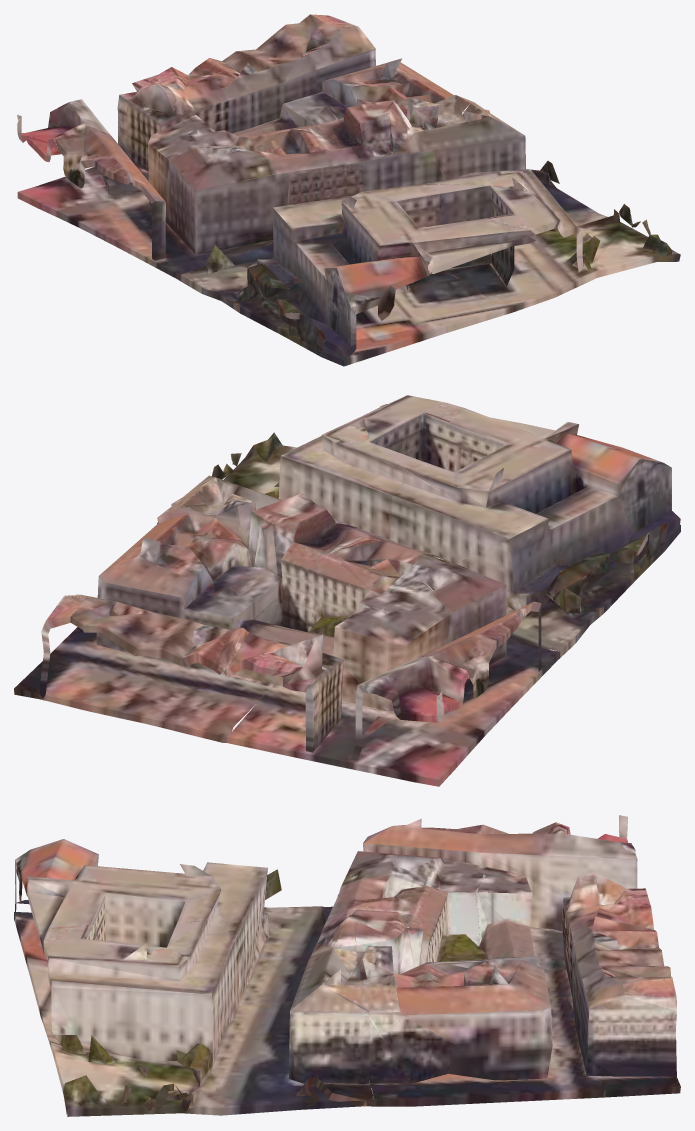
3 views of the same model, one above another, from view 1: azimuth 30°, elevation 25°; view 2: azimuth 150°, elevation 25°; view 3: azimuth 270°, elevation 25° (orthographic). The views are drawn at different scales.
Parts seen in each view (by area): view 1: Mesh_0; view 2: Mesh_0; view 3: Mesh_0.
Boxes of the visible parts, x1,y1,x2,y2 form: Mesh_0: [17, 14, 680, 366]; Mesh_0: [14, 395, 680, 786]; Mesh_0: [14, 815, 680, 1116].
Size of the model in its own units: 134 by 35.21 by 165.
Materials: 2 (2 with a texture image).
